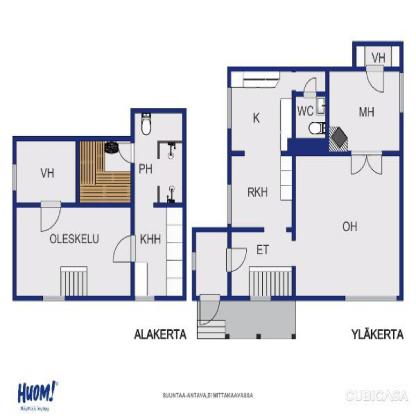door: (349, 148, 385, 184), (198, 292, 224, 325), (109, 236, 136, 265), (364, 65, 386, 98), (225, 245, 246, 278), (42, 202, 64, 232), (118, 142, 138, 164), (300, 77, 316, 99)
window: (398, 70, 406, 112), (344, 296, 396, 302), (227, 184, 232, 226), (250, 296, 272, 305), (42, 294, 65, 302), (227, 90, 232, 126), (190, 252, 198, 272), (12, 164, 17, 191), (134, 298, 154, 304)
zone: (232, 71, 324, 229), (297, 156, 400, 295), (17, 206, 131, 296), (135, 114, 184, 296), (330, 73, 400, 150), (232, 232, 296, 298), (16, 140, 74, 201), (197, 301, 293, 336), (195, 231, 227, 294), (295, 94, 324, 138), (356, 44, 398, 66)
